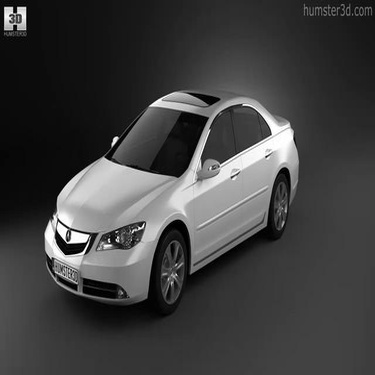car: (42, 78, 300, 323)
